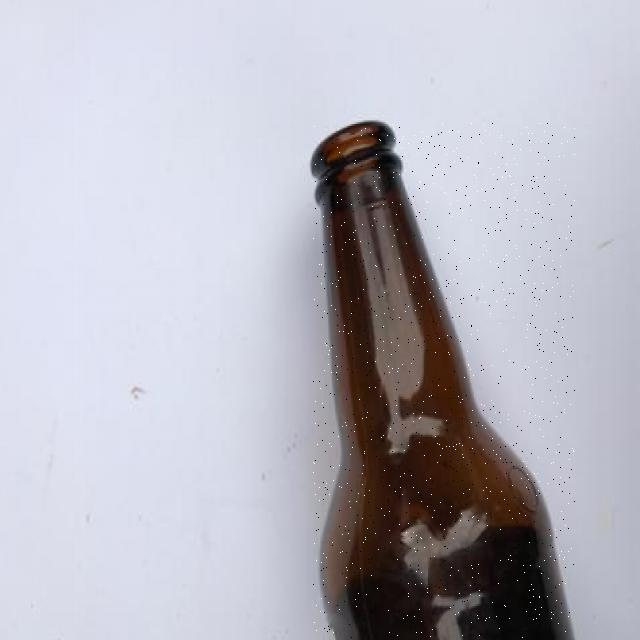glass: (313, 122, 575, 640)
